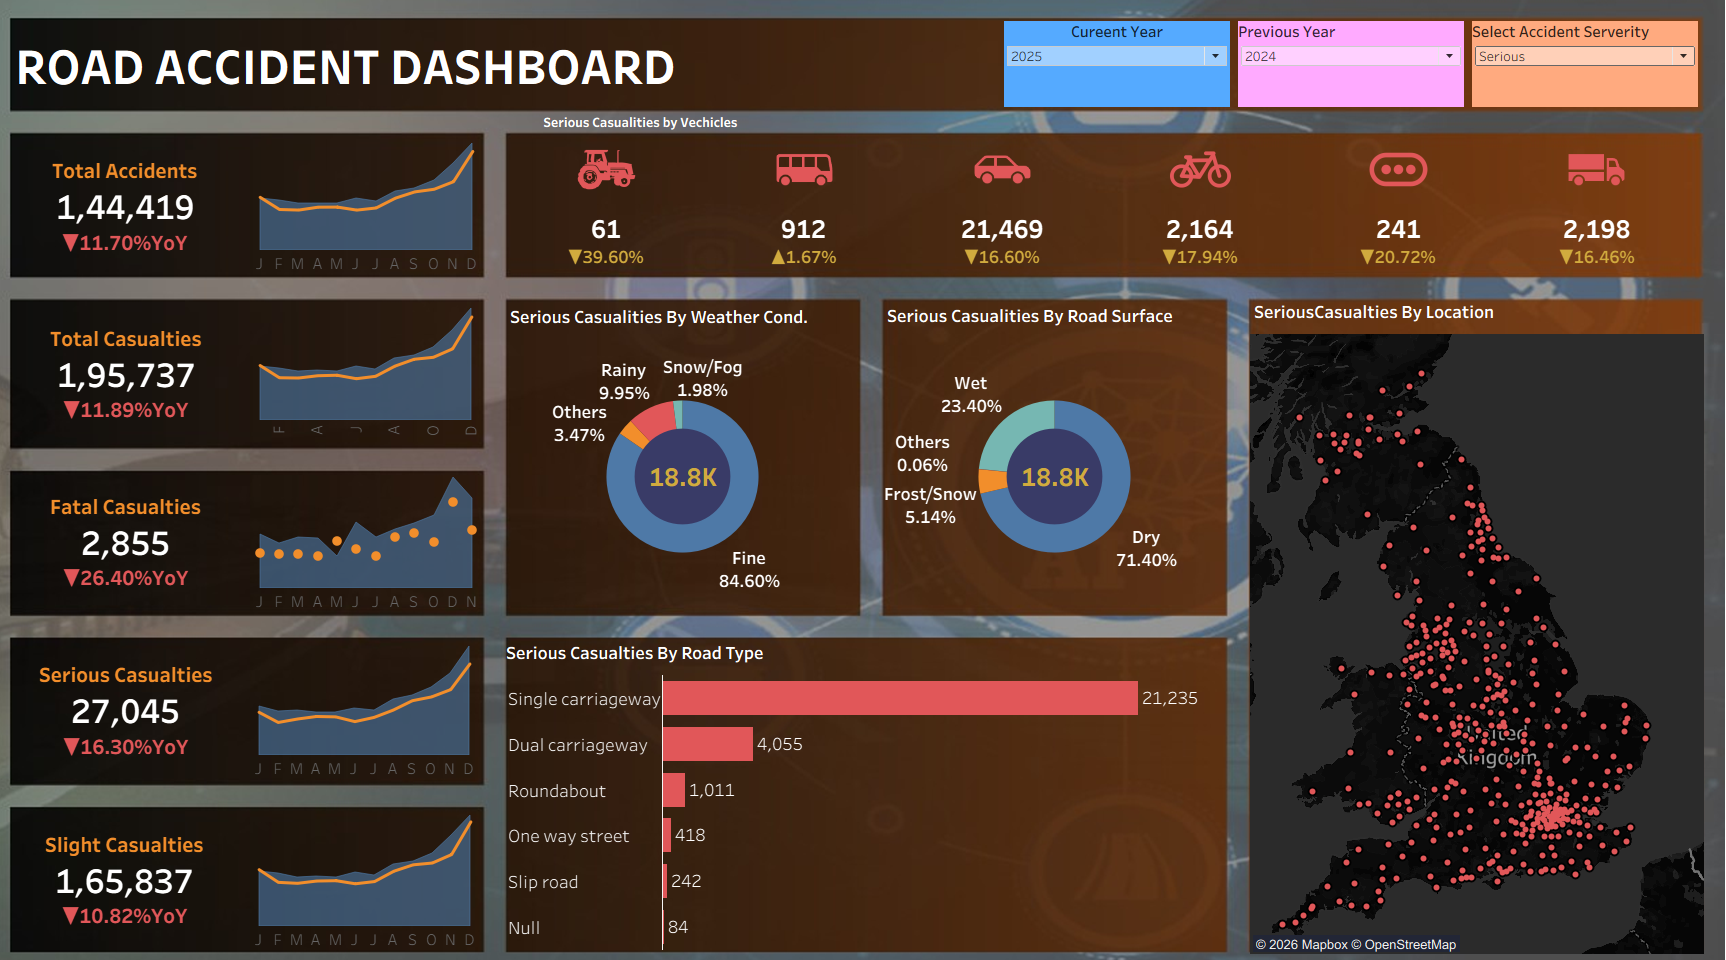

This screenshot's page, from the dashboard's own definition file:
{"tool":"tableau","page":{"name":"Dashboard 1","canvas":[1000,1000],"units":"permille","ordinal":0},"visuals":[{"type":"image","param":"C:/Users/omkad/OneDrive/Desktop/Tableau Project/Background format.jpg","box":[4.2,8,991.7,984]},{"type":"text","box":[17.7,23.8,410.7,108.8]},{"type":"parameter","param":"[Parameters].[Parameter 1]","box":[532.3,31,121.9,94]},{"type":"parameter","param":"[Parameters].[Parameter 1 1]","box":[654.2,31,121.9,94]},{"type":"parameter","param":"[Parameters].[Parameter 2]","box":[776,31,121.9,94]},{"type":"text","box":[292.5,126.7,208.4,17.8]},{"type":"worksheet","title":"Vehicle Type Images","mark":"Shape","box":[273.4,144,623.4,75]},{"type":"worksheet","title":"Total Accidents","mark":"Automatic","box":[14.1,148,125.5,145]},{"type":"worksheet","title":"Accident Sparkline","mark":"Automatic","rows":["CY Accidents (copy)_1212312754153975810","Calculation_1212312754151170049"],"cols":["Accident Date"],"box":[139.6,148,125,145]},{"type":"worksheet","title":"Vehicle Type KPI","mark":"Automatic","box":[273.4,219,623.4,74]},{"type":"worksheet","title":"By Location","mark":"Automatic","rows":["Latitude"],"cols":["Longitude"],"box":[662.5,309,236.5,659]},{"type":"worksheet","title":"Total Casualties","mark":"Automatic","box":[15.1,312,124.5,152]},{"type":"worksheet","title":"Total Casualities Sparkline","mark":"Automatic","rows":["CY Casualties (copy)_1212312754168385542","Calculation_1212312754167050245"],"cols":["Accident Date"],"box":[139.6,312,124.5,152]},{"type":"worksheet","title":"Road Surface","mark":"Pie","rows":["Calculation_2208171223999680513","Calculation_2208171223999729668"],"box":[471.4,313,178.7,316]},{"type":"worksheet","title":"Weather Conditions","mark":"Pie","rows":["Calculation_2208171223999680513","Calculation_2208171223999729668"],"box":[275,314,183.8,314]},{"type":"worksheet","title":"Fatal Casualties ","mark":"Automatic","box":[14.6,481,125,150]},{"type":"worksheet","title":"Fatal Sparkline ","mark":"Automatic","rows":["CY Fatal Casualties (copy)_2592666040424525825","Calculation_2592666040423985152"],"cols":["Accident Date"],"box":[139.6,481,125,150]},{"type":"worksheet","title":"Road Type","mark":"Automatic","rows":["Road_Type"],"cols":["Calculation_1212312754167050245"],"box":[272.9,650,377.6,314]},{"type":"worksheet","title":"Serious Casualties ","mark":"Automatic","box":[15.1,651,124,147]},{"type":"worksheet","title":"Serious Sparkline ","mark":"Automatic","rows":["PY Fatal Casualties  (copy)_2592666040425394180","CY Fatal Casualties (copy)_2592666040425218051"],"cols":["Accident Date"],"box":[139.1,651,124,147]},{"type":"worksheet","title":"Slight Casualties ","mark":"Automatic","box":[14.6,819,124.5,150]},{"type":"worksheet","title":"Slight Sparkline ","mark":"Automatic","rows":["PY Serious Casualties   (copy)_2592666040426139655","CY Serious Casualties  (copy)_2592666040426033158"],"cols":["Accident Date"],"box":[139.1,819,124.5,150]}]}

Visuals, with their boxes on the dashboard's canvas, which has no fixed pixel size, in thousandths of its width and height (x1, y1, x2, y2). These are canvas units, not pixel positions in the 1726x960 screenshot, which may show the page scaled, cropped or inside an application window:
image: left=4, top=8, right=996, bottom=992
text: left=18, top=24, right=428, bottom=133
parameter: left=532, top=31, right=654, bottom=125
parameter: left=654, top=31, right=776, bottom=125
parameter: left=776, top=31, right=898, bottom=125
text: left=292, top=127, right=501, bottom=144
"Vehicle Type Images" worksheet (Shape marks): left=273, top=144, right=897, bottom=219
"Total Accidents" worksheet: left=14, top=148, right=140, bottom=293
"Accident Sparkline" worksheet: left=140, top=148, right=265, bottom=293
"Vehicle Type KPI" worksheet: left=273, top=219, right=897, bottom=293
"By Location" worksheet: left=662, top=309, right=899, bottom=968
"Total Casualties" worksheet: left=15, top=312, right=140, bottom=464
"Total Casualities Sparkline" worksheet: left=140, top=312, right=264, bottom=464
"Road Surface" worksheet (Pie marks): left=471, top=313, right=650, bottom=629
"Weather Conditions" worksheet (Pie marks): left=275, top=314, right=459, bottom=628
"Fatal Casualties " worksheet: left=15, top=481, right=140, bottom=631
"Fatal Sparkline " worksheet: left=140, top=481, right=265, bottom=631
"Road Type" worksheet: left=273, top=650, right=650, bottom=964
"Serious Casualties " worksheet: left=15, top=651, right=139, bottom=798
"Serious Sparkline " worksheet: left=139, top=651, right=263, bottom=798
"Slight Casualties " worksheet: left=15, top=819, right=139, bottom=969
"Slight Sparkline " worksheet: left=139, top=819, right=264, bottom=969
